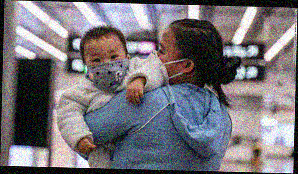with_mask: (85, 47, 131, 93), (145, 40, 170, 87)
